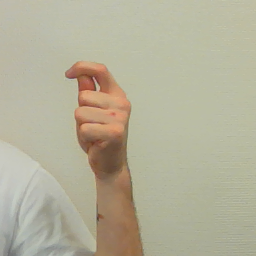T: (62, 58, 135, 169)
